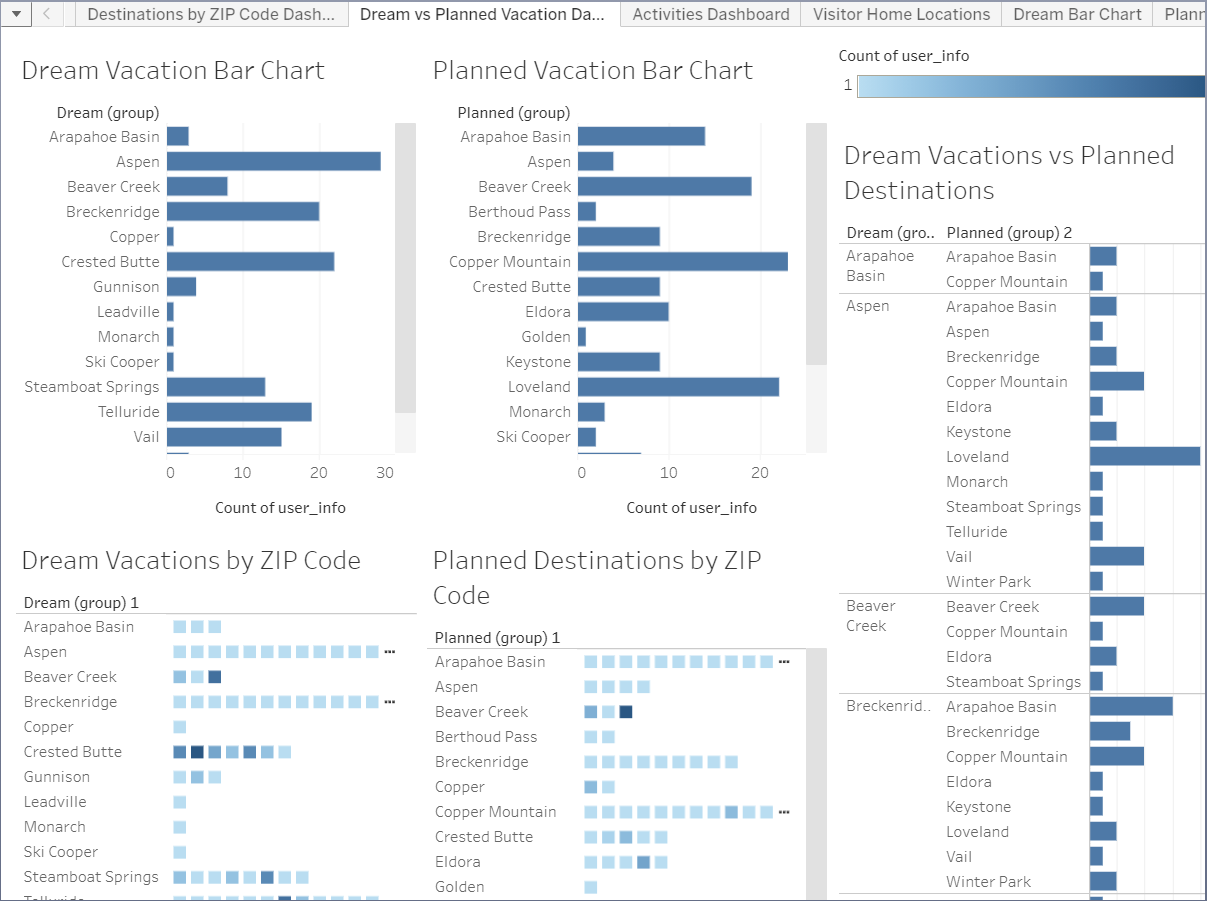

This screenshot's page, from the dashboard's own definition file:
{"tool":"tableau","page":{"name":"Dream vs Planned Vacation Dashboard","canvas":[1000,800],"ordinal":2},"visuals":[{"type":"worksheet","box":[0,0,1000,800]},{"type":"worksheet","param":"horz","box":[8,8,984,784]},{"type":"worksheet","box":[8,8,658,784]},{"type":"worksheet","title":"Dream Bar Chart","mark":"Automatic","cols":["user_info_4436D9E6614C40E496E507DC5B00AEA3"],"box":[8,8,329,392]},{"type":"worksheet","title":"Planned Bar Chart","mark":"Automatic","cols":["user_info_4436D9E6614C40E496E507DC5B00AEA3"],"box":[337,8,329,392]},{"type":"worksheet","param":"vert","box":[666,8,326,784]},{"type":"worksheet","title":"Planned by ZIP Code","mark":"Automatic","param":"[federated.1sm3erm0lexqah15gx1ra06mwfu0].[__tableau_internal_object_id__].[cnt:u","box":[666,8,326,65]},{"type":"worksheet","title":"Dreamed vs Planned","mark":"Automatic","cols":["user_info_4436D9E6614C40E496E507DC5B00AEA3"],"box":[666,73,326,719]},{"type":"worksheet","title":"Dreamed by ZIP Code","mark":"Automatic","box":[8,400,329,392]},{"type":"worksheet","title":"Planned by ZIP Code","mark":"Automatic","box":[337,400,329,392]}]}

Visuals, with their boxes on the page's 1000x800 design canvas (x1, y1, x2, y2). These are canvas units, not pixel positions in the 1207x901 screenshot, which may show the page scaled, cropped or inside an application window:
worksheet: {"left": 0, "top": 0, "right": 1000, "bottom": 800}
worksheet: {"left": 8, "top": 8, "right": 992, "bottom": 792}
worksheet: {"left": 8, "top": 8, "right": 666, "bottom": 792}
"Dream Bar Chart" worksheet: {"left": 8, "top": 8, "right": 337, "bottom": 400}
"Planned Bar Chart" worksheet: {"left": 337, "top": 8, "right": 666, "bottom": 400}
worksheet: {"left": 666, "top": 8, "right": 992, "bottom": 792}
"Planned by ZIP Code" worksheet: {"left": 666, "top": 8, "right": 992, "bottom": 73}
"Dreamed vs Planned" worksheet: {"left": 666, "top": 73, "right": 992, "bottom": 792}
"Dreamed by ZIP Code" worksheet: {"left": 8, "top": 400, "right": 337, "bottom": 792}
"Planned by ZIP Code" worksheet: {"left": 337, "top": 400, "right": 666, "bottom": 792}
